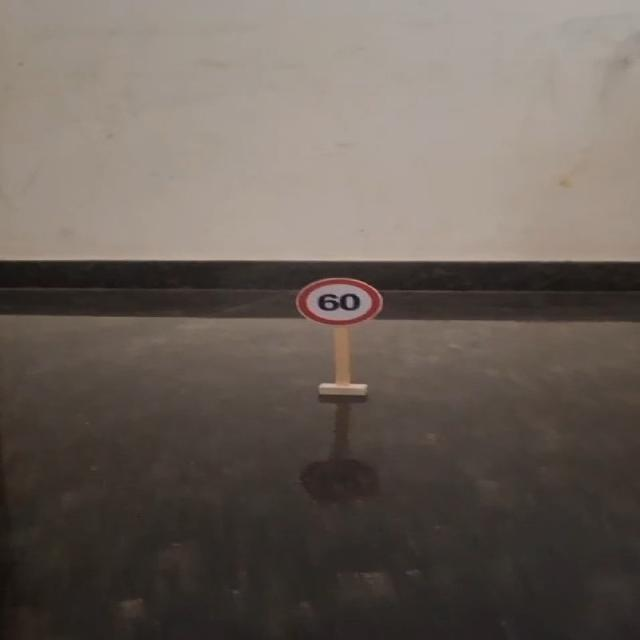Speed60: (294, 275, 388, 330)
